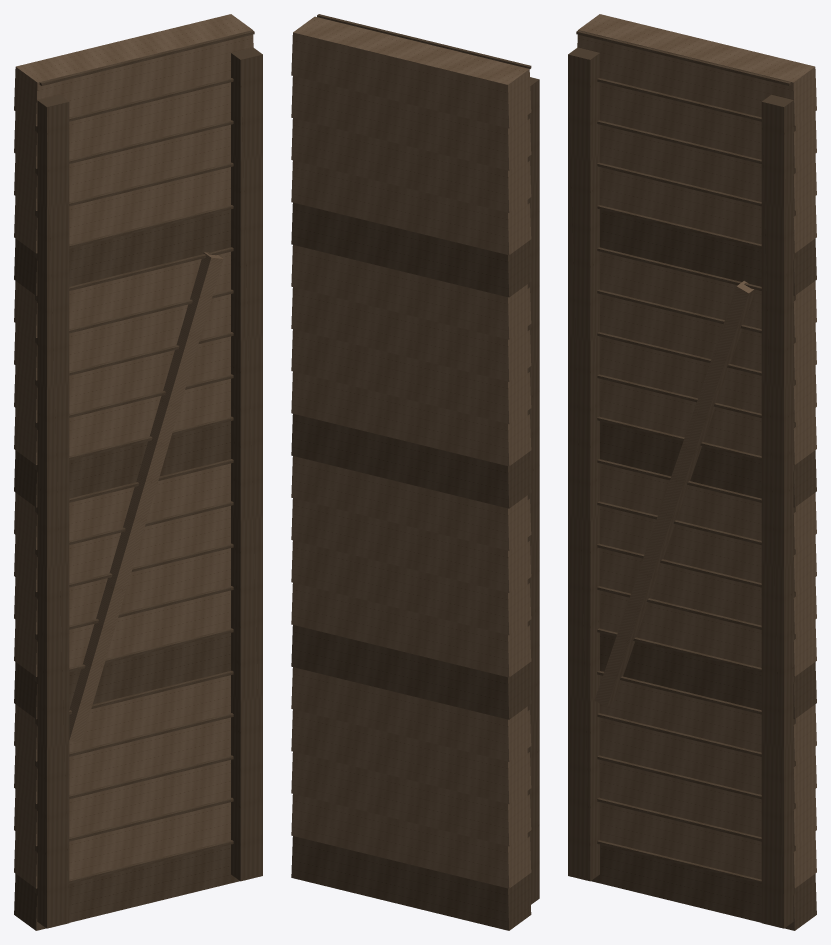
File: village__05__expanded_warehouse__pier_door_right__section_04.glb
The picture shows the model from 3 angles, left to right: view 1: azimuth 30°, elevation 25°; view 2: azimuth 150°, elevation 25°; view 3: azimuth 330°, elevation 25°; orthographic projection.
Visible parts, largest first — view 1: PierDoorRight_Section_04; view 2: PierDoorRight_Section_04; view 3: PierDoorRight_Section_04.
Part boxes in pixels (box(x1,y1,x2,y2)): PierDoorRight_Section_04: box(14, 14, 262, 930); PierDoorRight_Section_04: box(291, 14, 539, 930); PierDoorRight_Section_04: box(568, 14, 816, 930).
Size of the model in its own units: 1.27 by 4.71 by 0.3187.
Materials: 2 (2 with a texture image).
